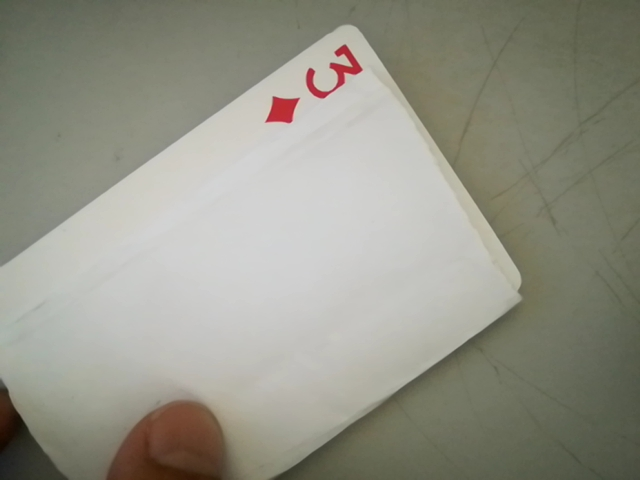fk 3: (261, 40, 373, 126)
